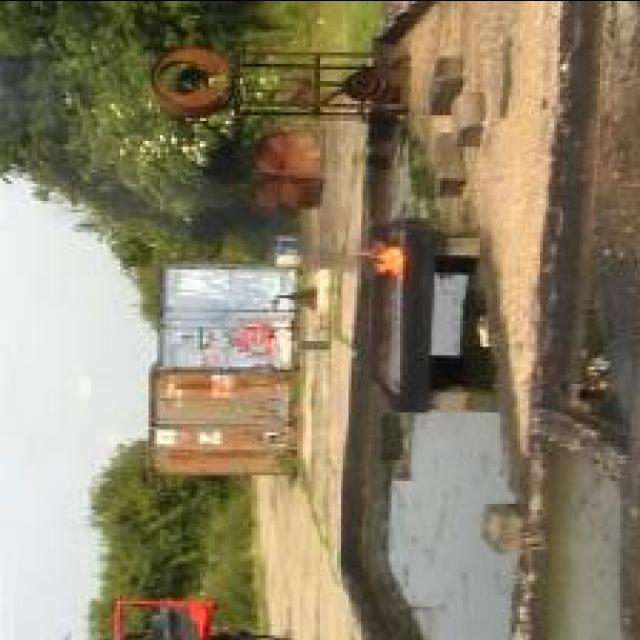Fire: (356, 242, 404, 282)
